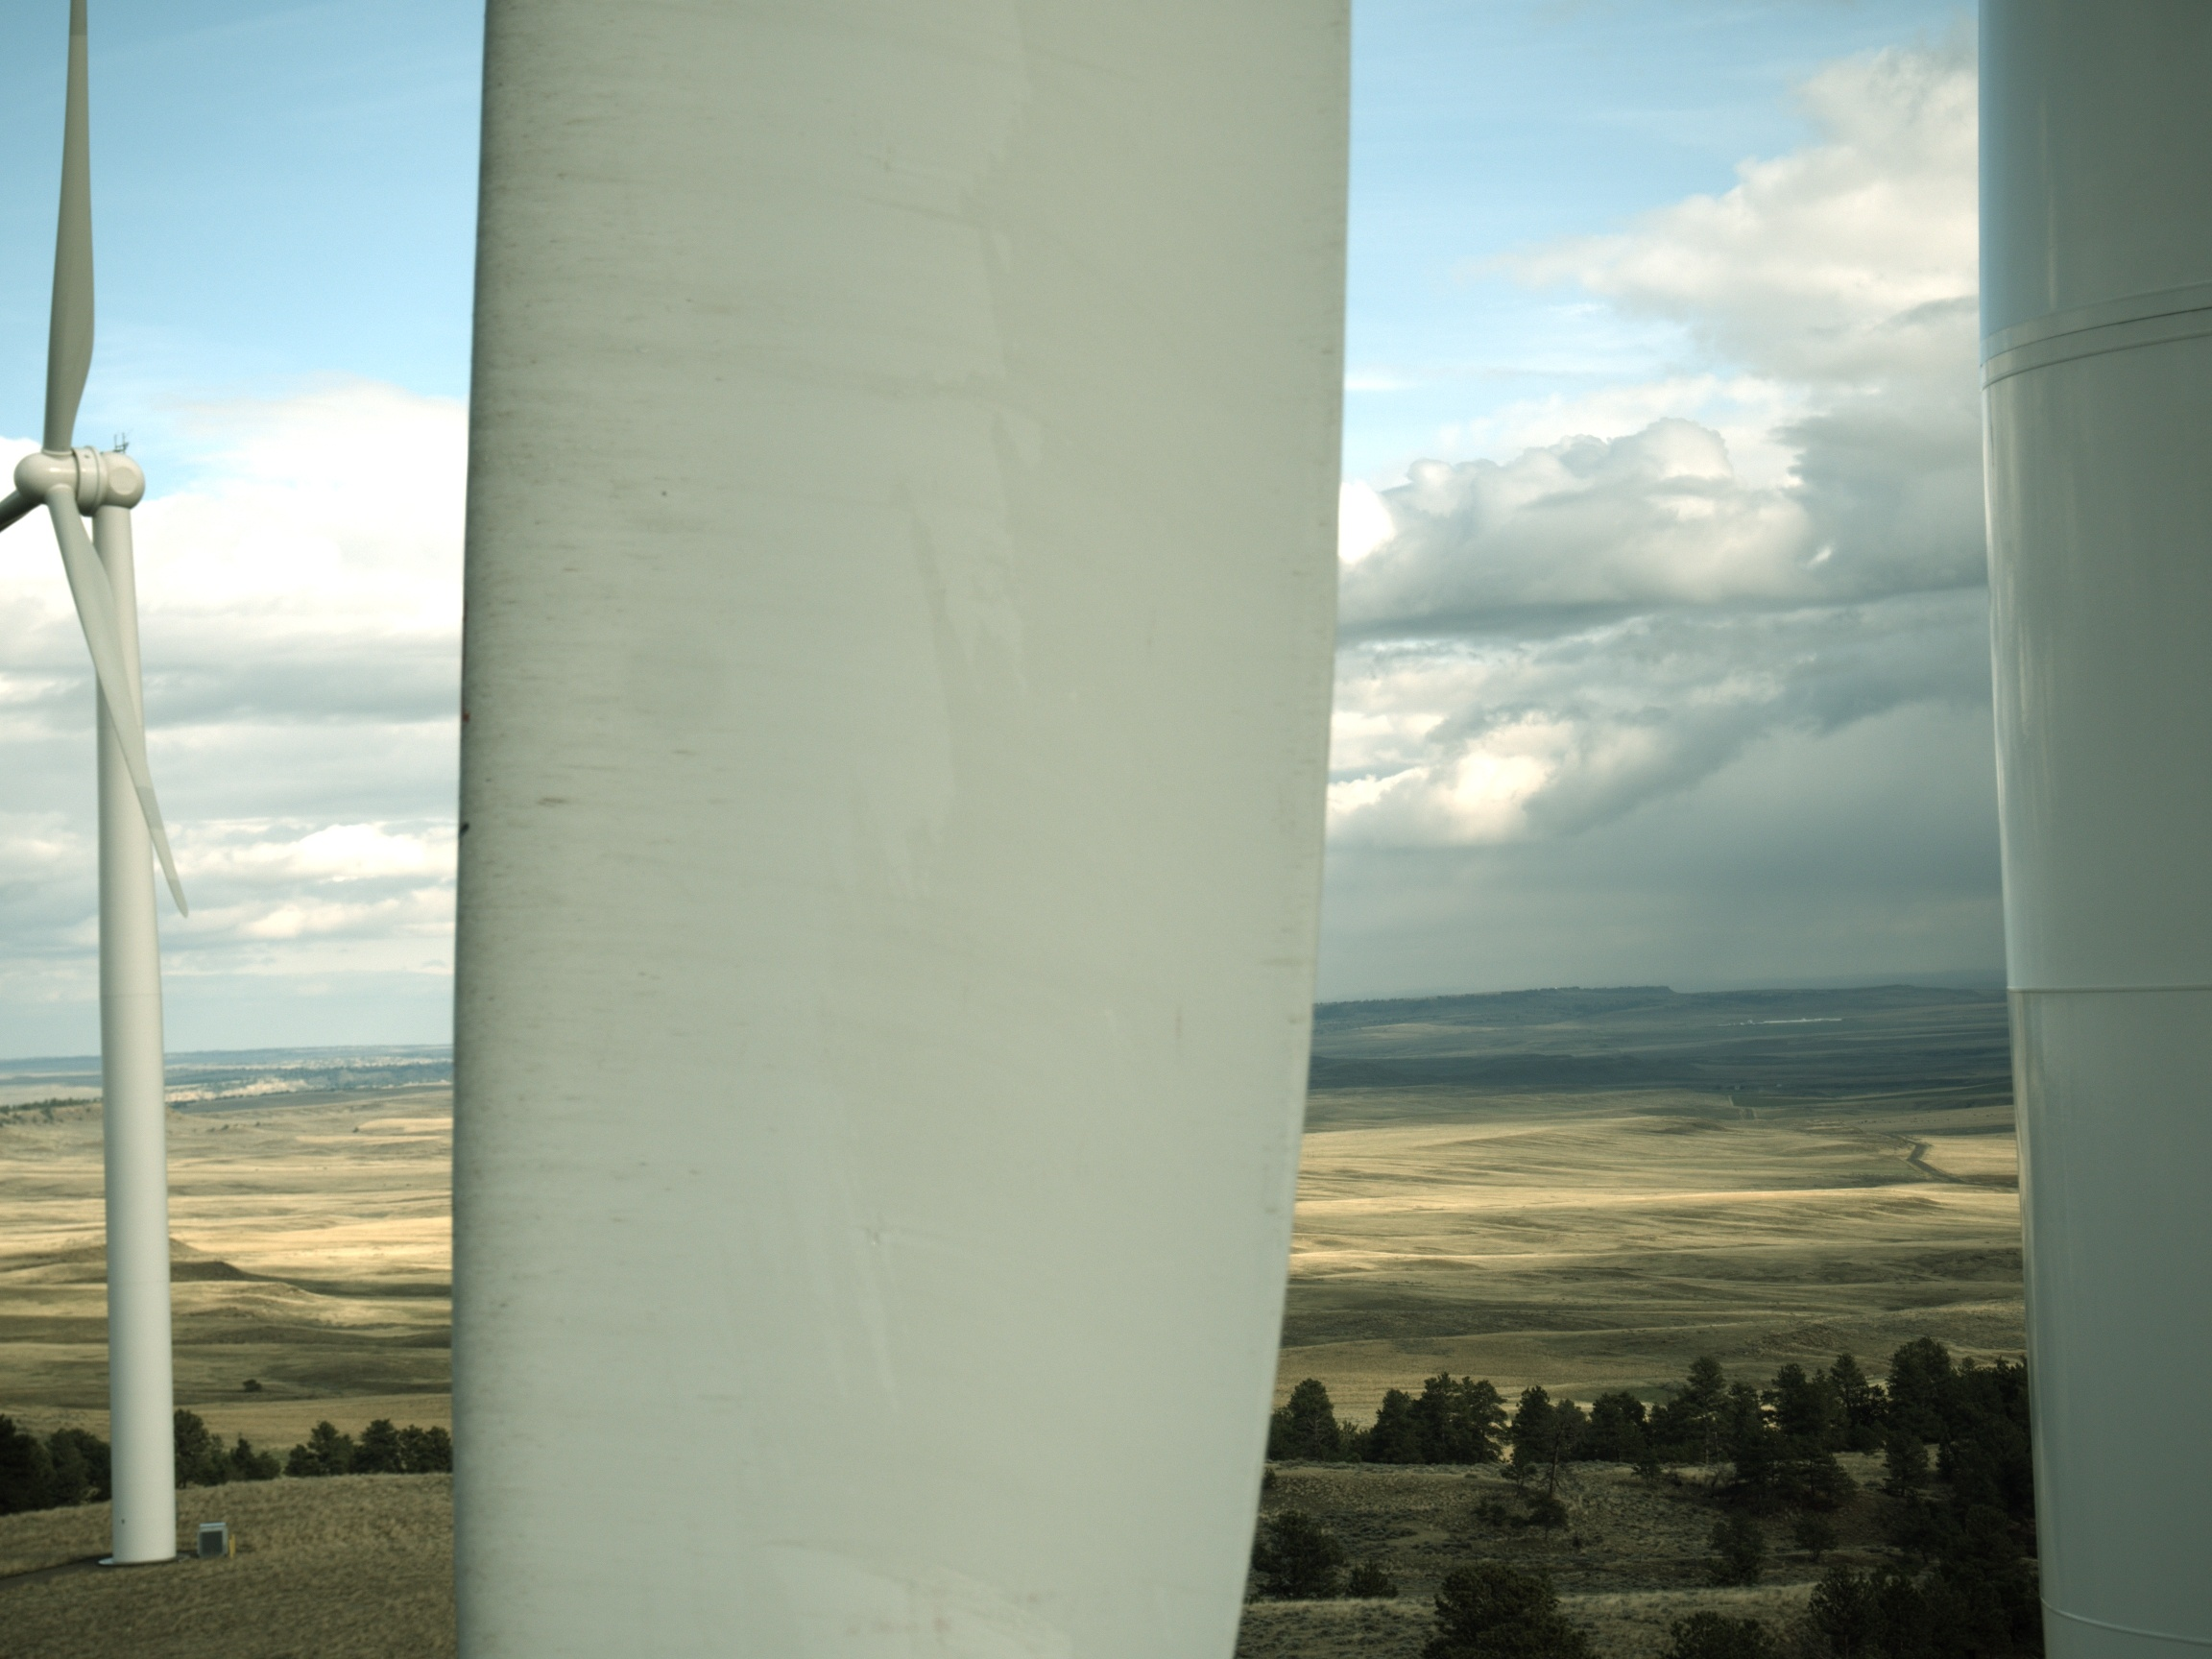chip: (460, 821, 470, 838), (462, 713, 470, 723)
